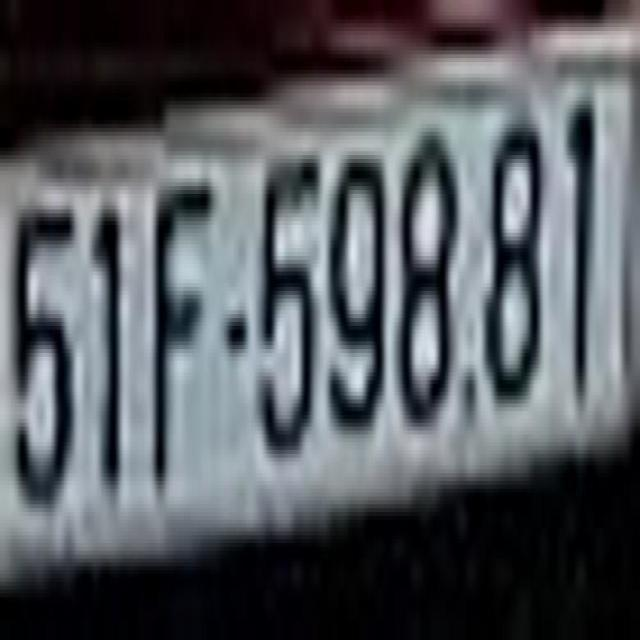1: (560, 74, 598, 408), (89, 190, 130, 497)
5: (257, 120, 320, 477), (8, 190, 76, 512), (327, 144, 388, 442)
8: (397, 117, 458, 430), (488, 108, 544, 412)
F: (146, 162, 217, 500)
